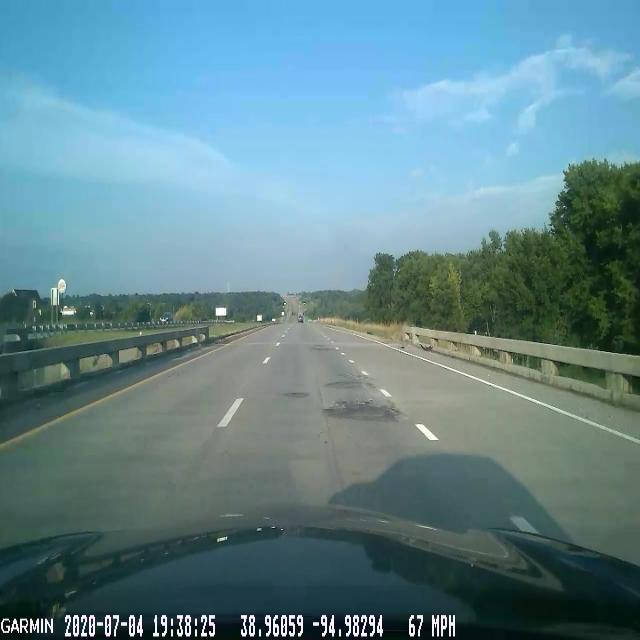Pothole: (320, 392, 408, 433), (319, 373, 371, 399), (280, 383, 312, 410)
